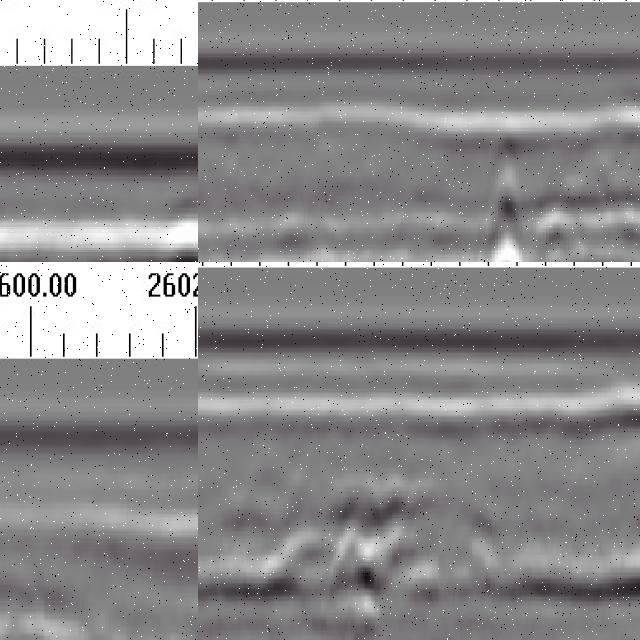crack: (483, 127, 526, 263)
loose: (251, 473, 491, 640), (1, 570, 171, 640)
